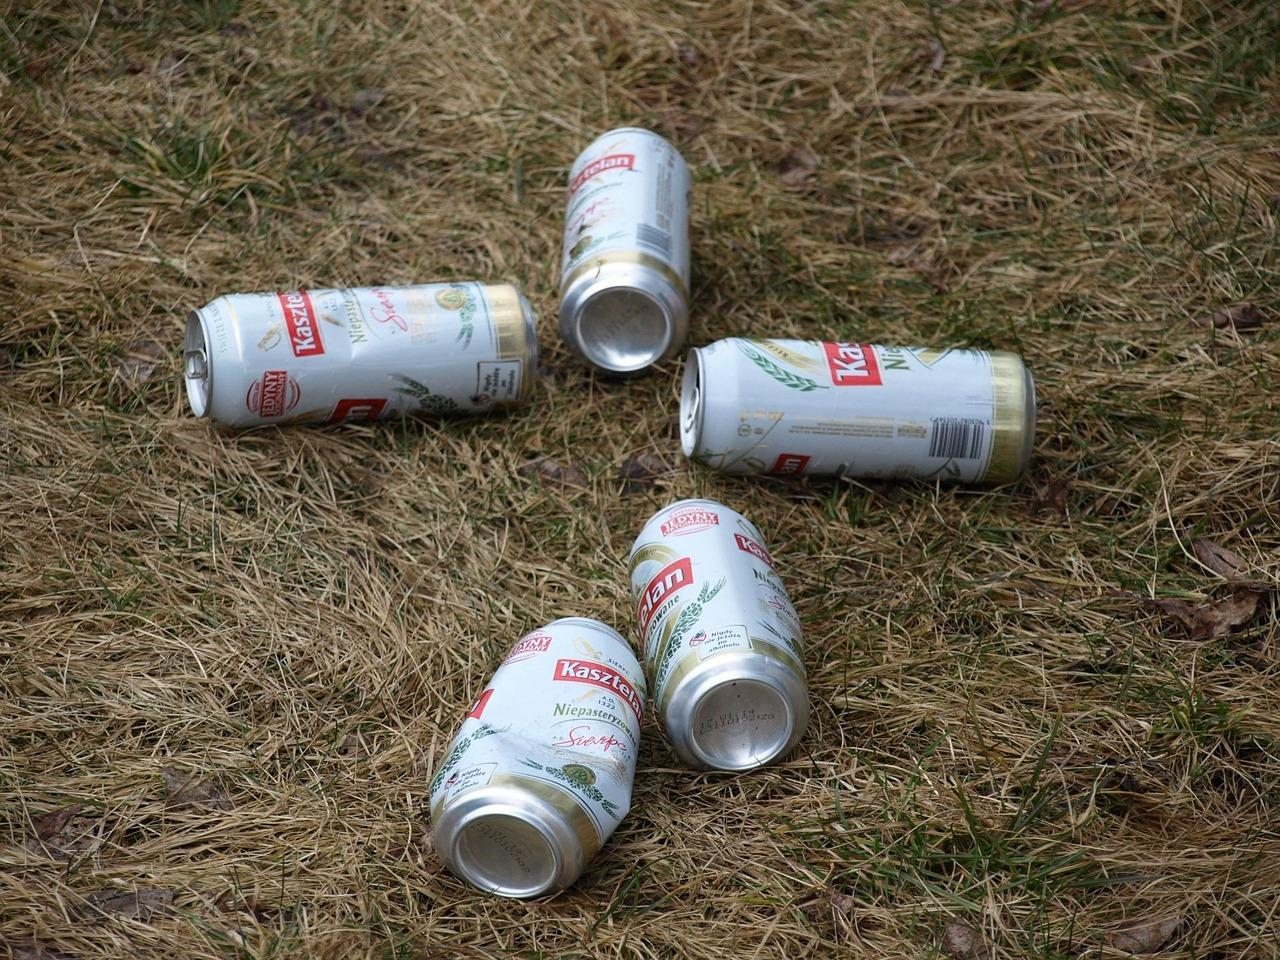metal: (420, 603, 648, 907), (156, 268, 544, 433), (660, 328, 1045, 488), (632, 495, 828, 773), (545, 125, 699, 388)
